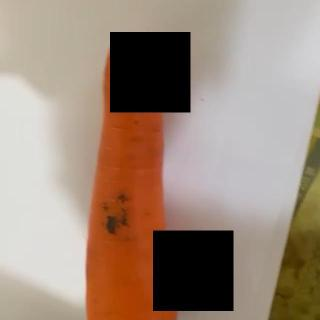carrot: (55, 35, 181, 320)
